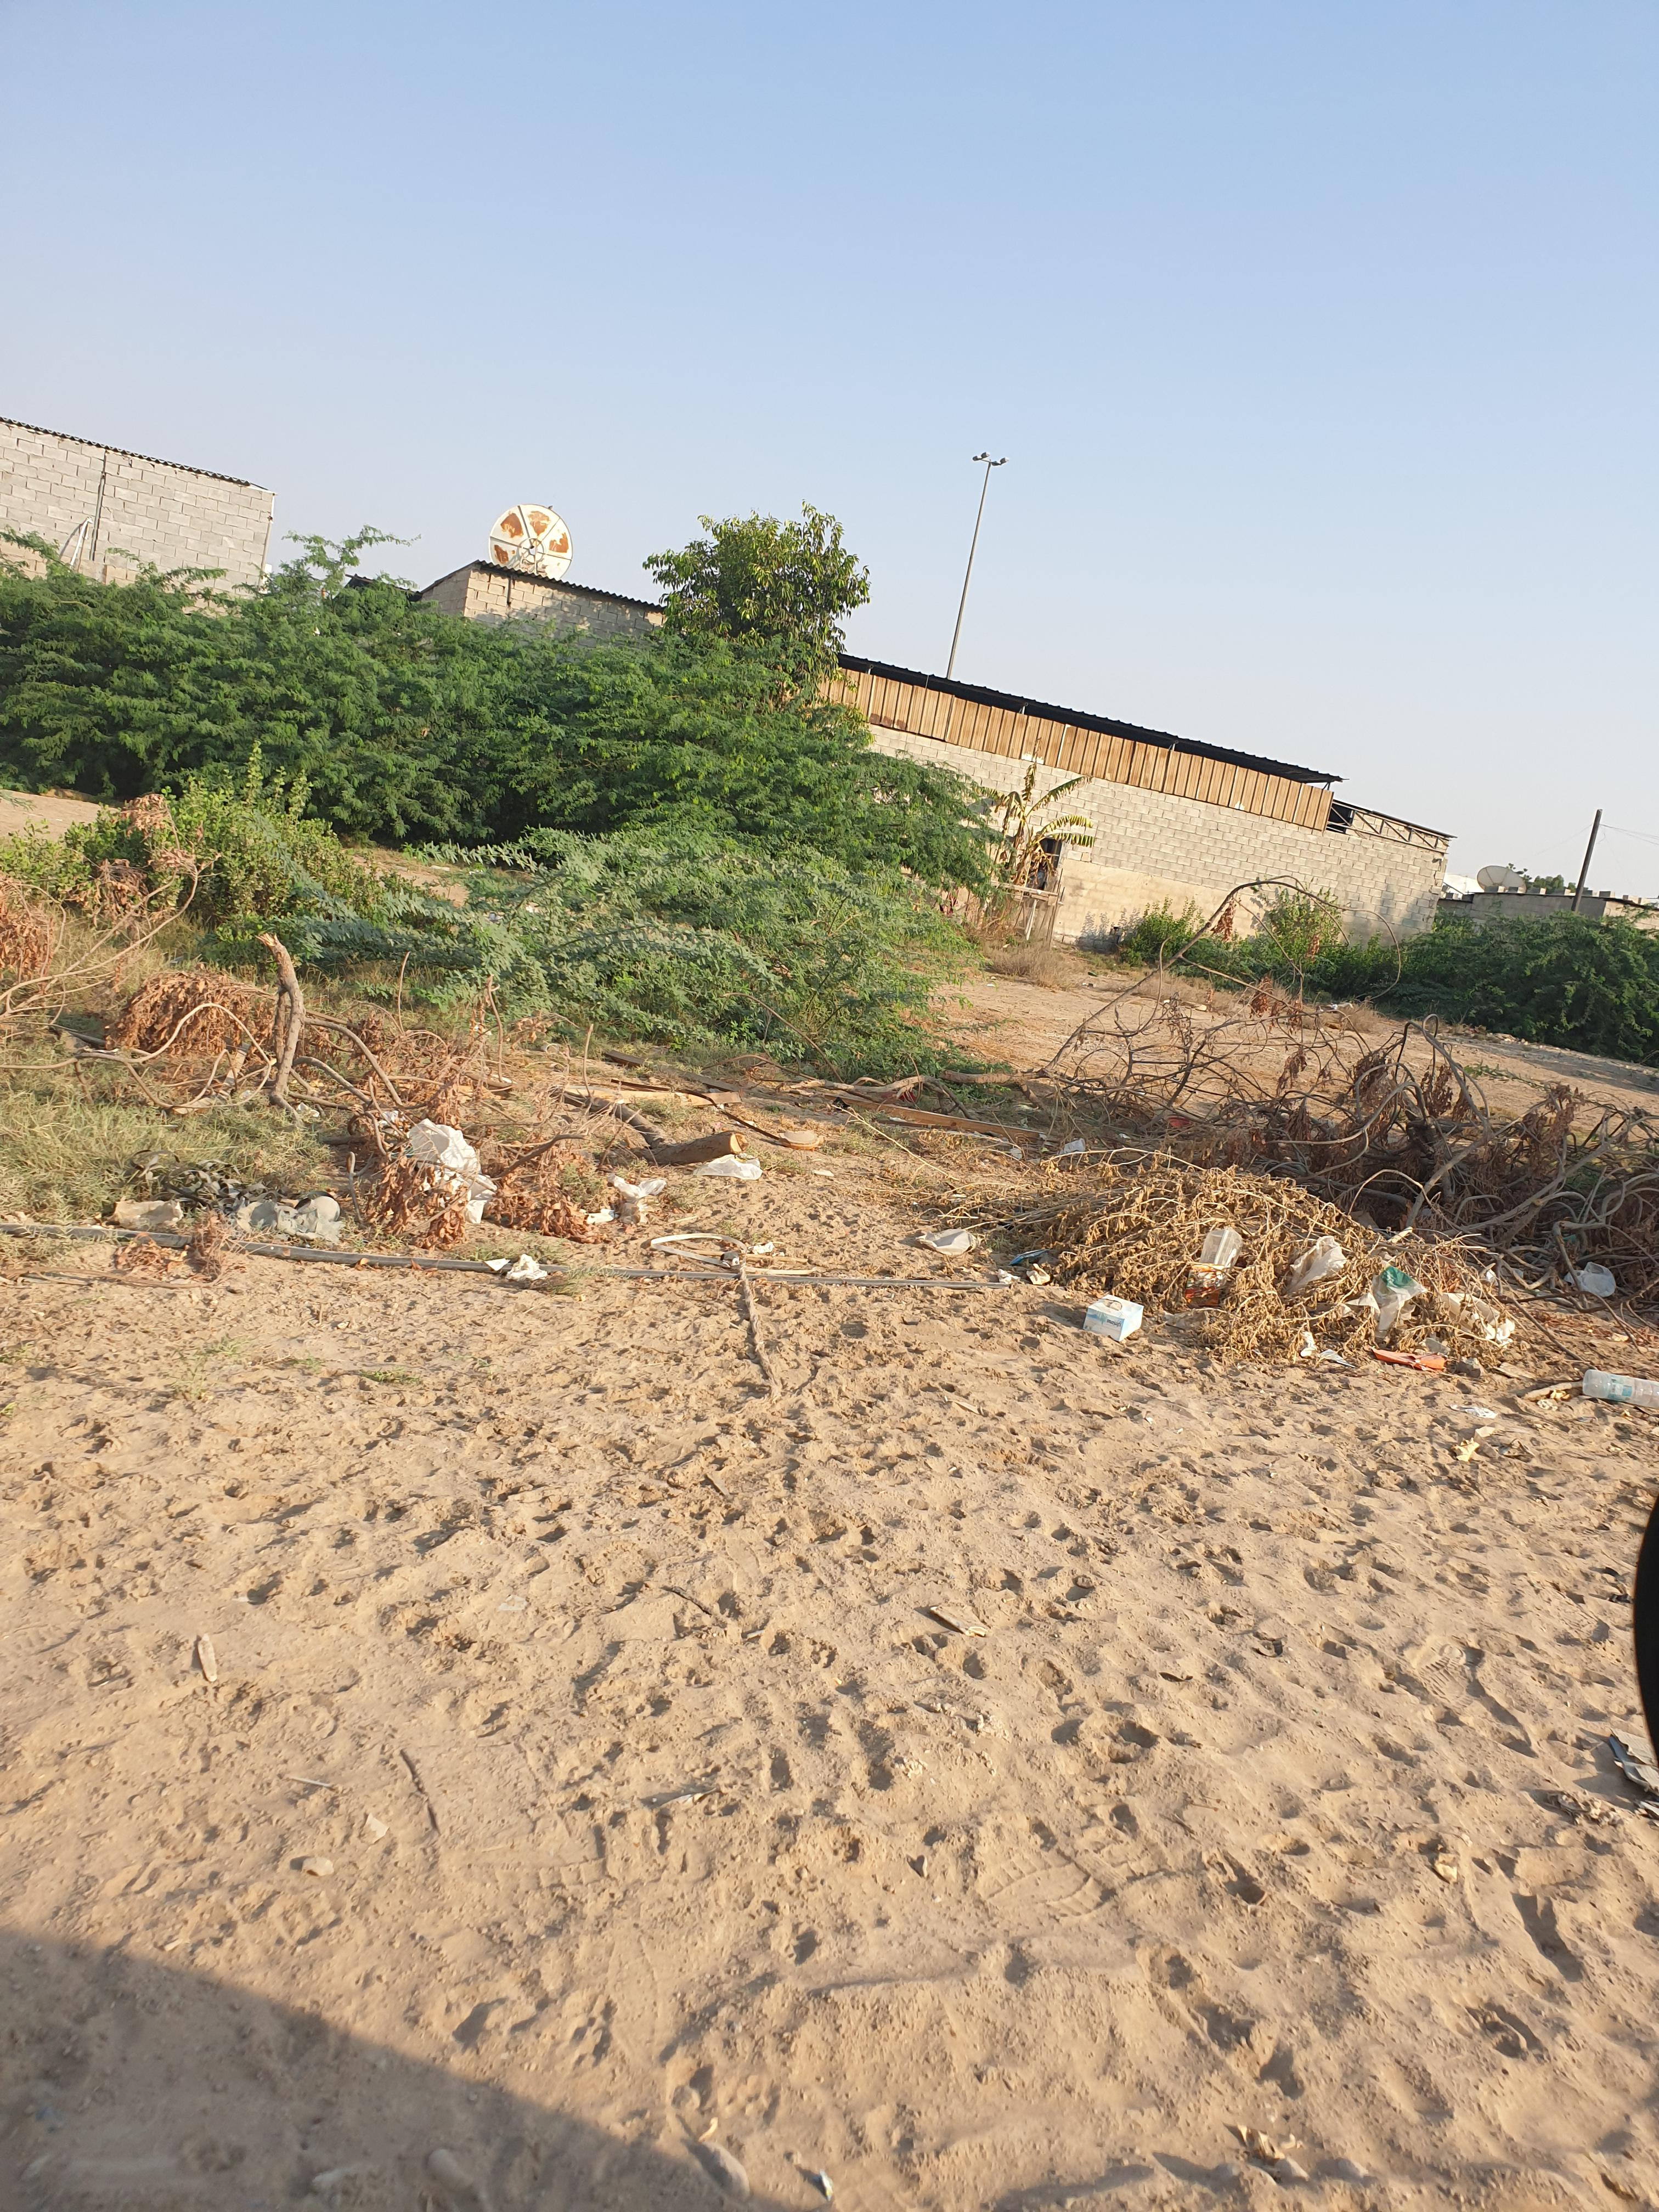fallen_trees: (910, 1071, 1595, 1426), (992, 1116, 1514, 1406), (92, 932, 612, 1141), (490, 1075, 830, 1221)
